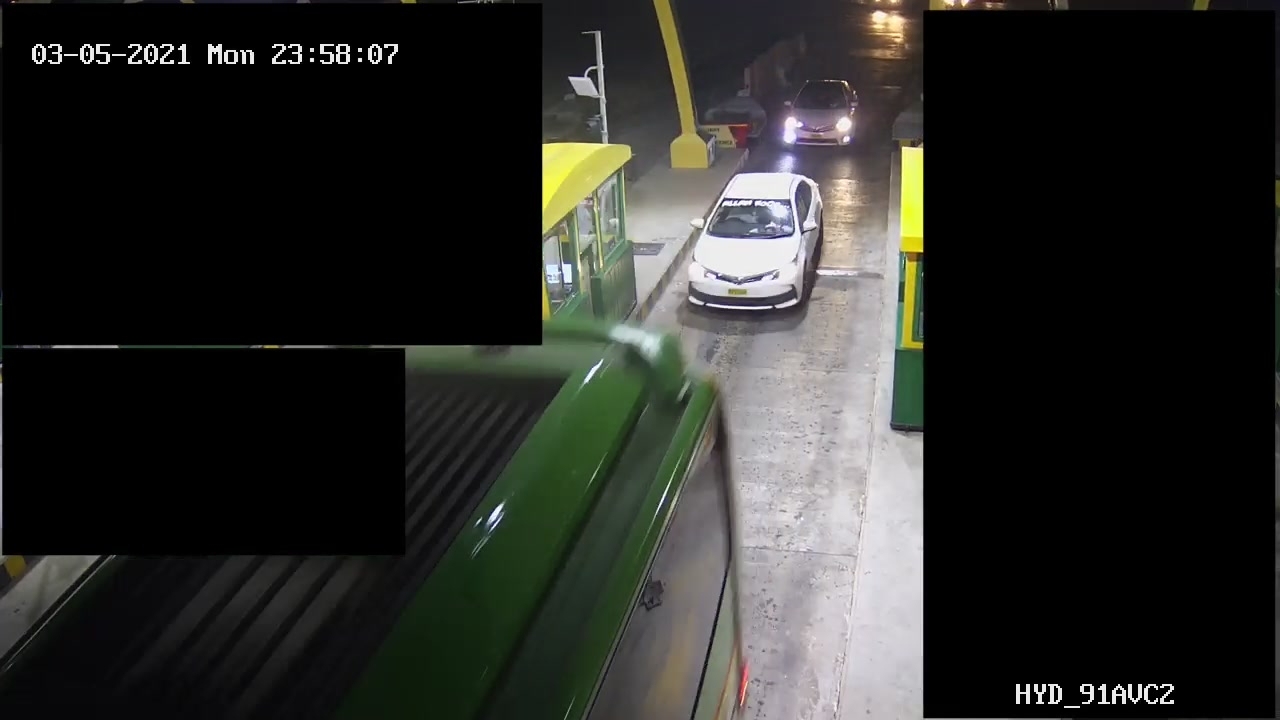F1: (678, 167, 828, 317)
